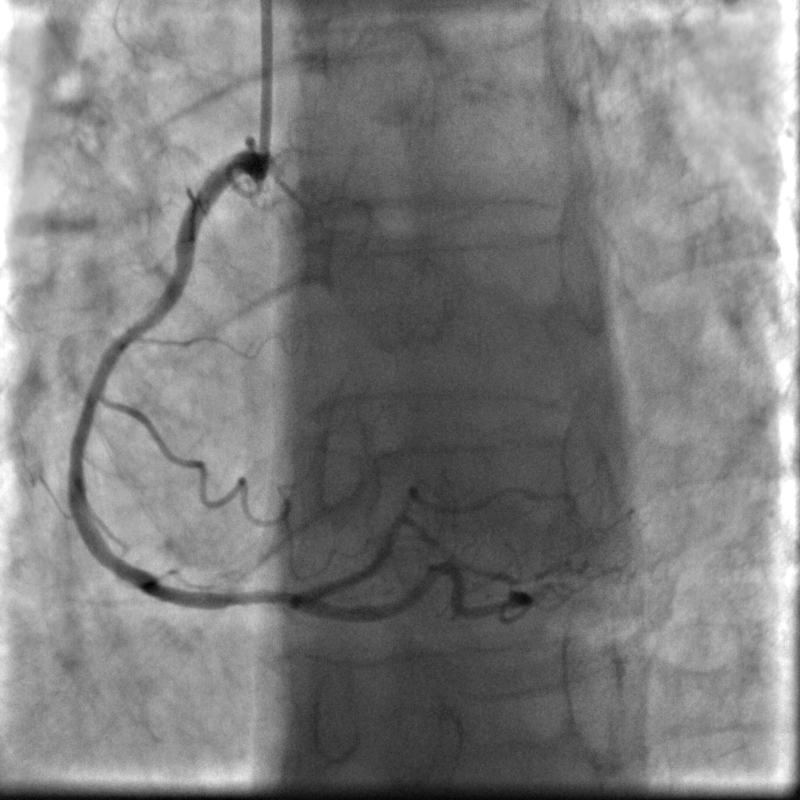Stenosis: (211, 578, 295, 623)
